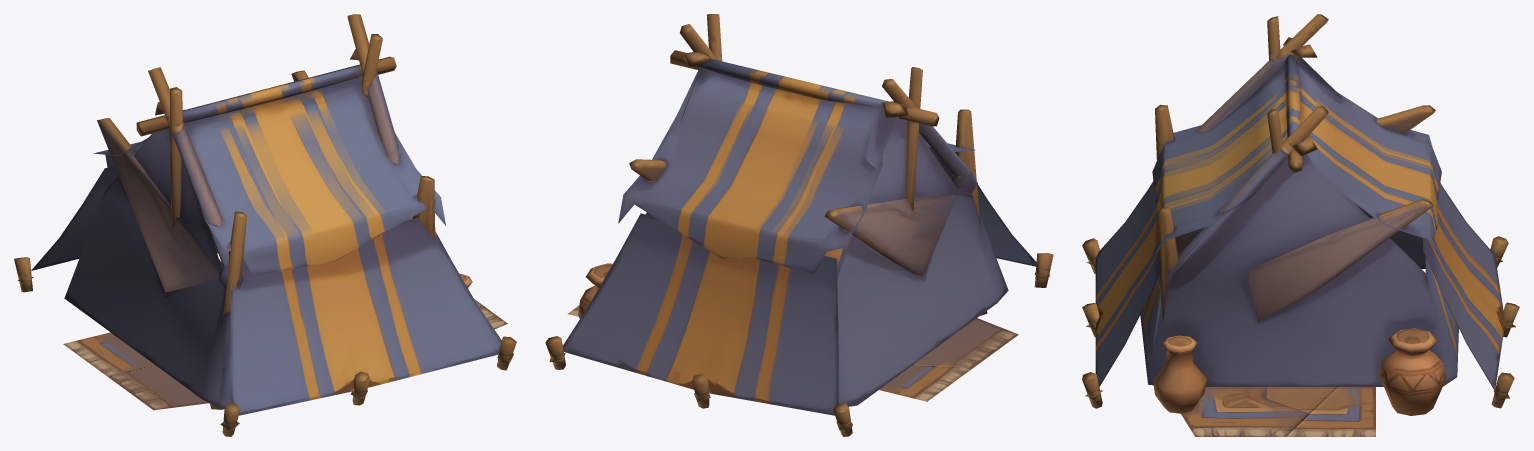
File: map_tent_tripo.glb
3 views of the same model, side by side, from view 1: azimuth 30°, elevation 25°; view 2: azimuth 150°, elevation 25°; view 3: azimuth 270°, elevation 25° (orthographic).
Parts seen in each view (by area): view 1: tripo_node_f6ea7219-d232-4418-b3c1-d099a8e4d210; view 2: tripo_node_f6ea7219-d232-4418-b3c1-d099a8e4d210; view 3: tripo_node_f6ea7219-d232-4418-b3c1-d099a8e4d210.
Boxes of the visible parts, x1,y1,x2,y2 form: tripo_node_f6ea7219-d232-4418-b3c1-d099a8e4d210: (14,14,516,436); tripo_node_f6ea7219-d232-4418-b3c1-d099a8e4d210: (545,14,1053,436); tripo_node_f6ea7219-d232-4418-b3c1-d099a8e4d210: (1082,14,1519,436).
Bounding box in the file's own units: 0.9316 × 0.7246 × 0.998.
Materials: 1 (1 with a texture image).
